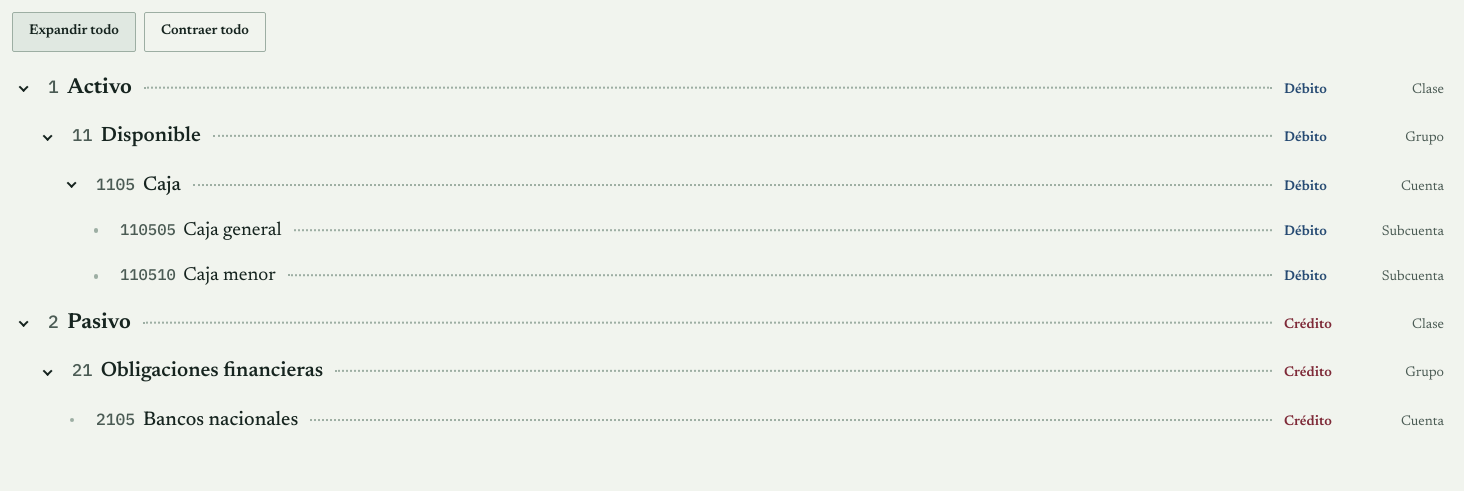
Test: AccountTree › expand and collapse › collapses a branch when its chevron is clicked and opens it again
Click the 2nd element with class "account-tree__marker": click(48, 137) x1=36 y1=125 x2=60 y2=149
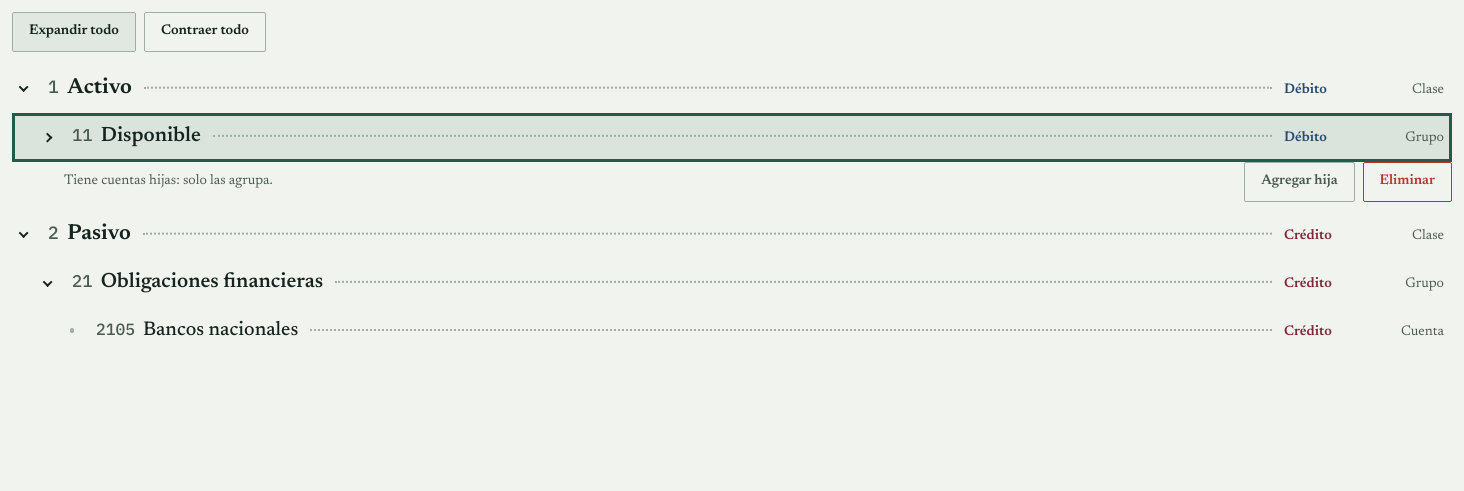
Check: the list item "11 Disponible" is collapsed, box x1=12 y1=113 x2=1452 y2=202
Check: the list item "1105 Caja" is gone
Click the 2nd element with class "account-tree__marker": click(48, 137) x1=36 y1=125 x2=60 y2=149
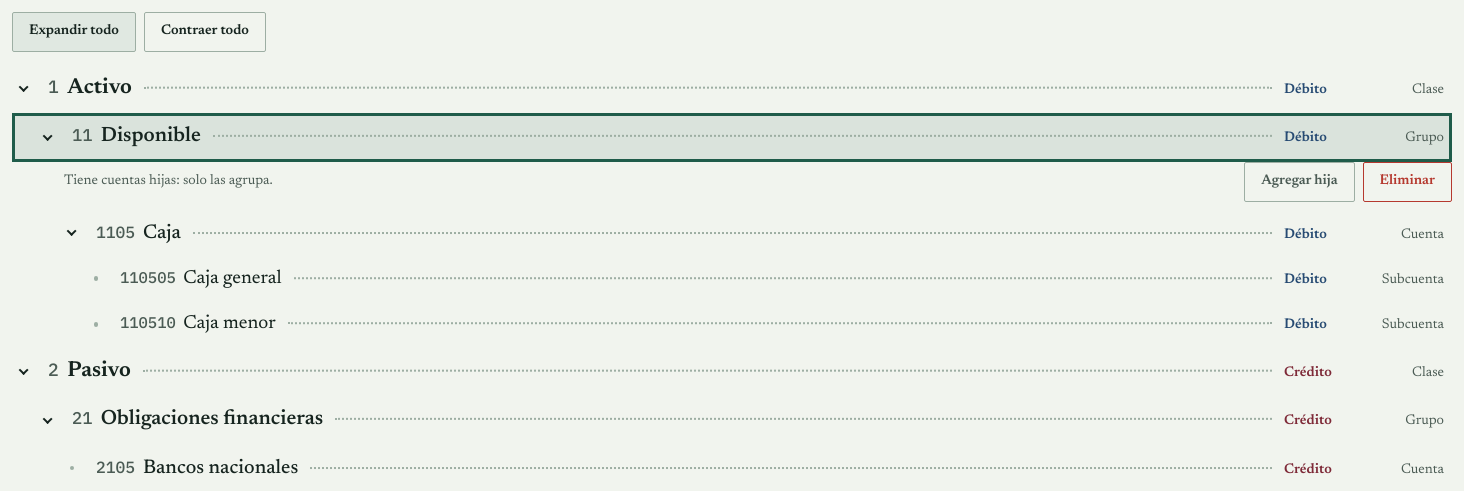
Check: the list item "11 Disponible" is expanded, box x1=12 y1=113 x2=1452 y2=347
Check: the list item "1105 Caja" is shown, box x1=12 y1=210 x2=1452 y2=347
